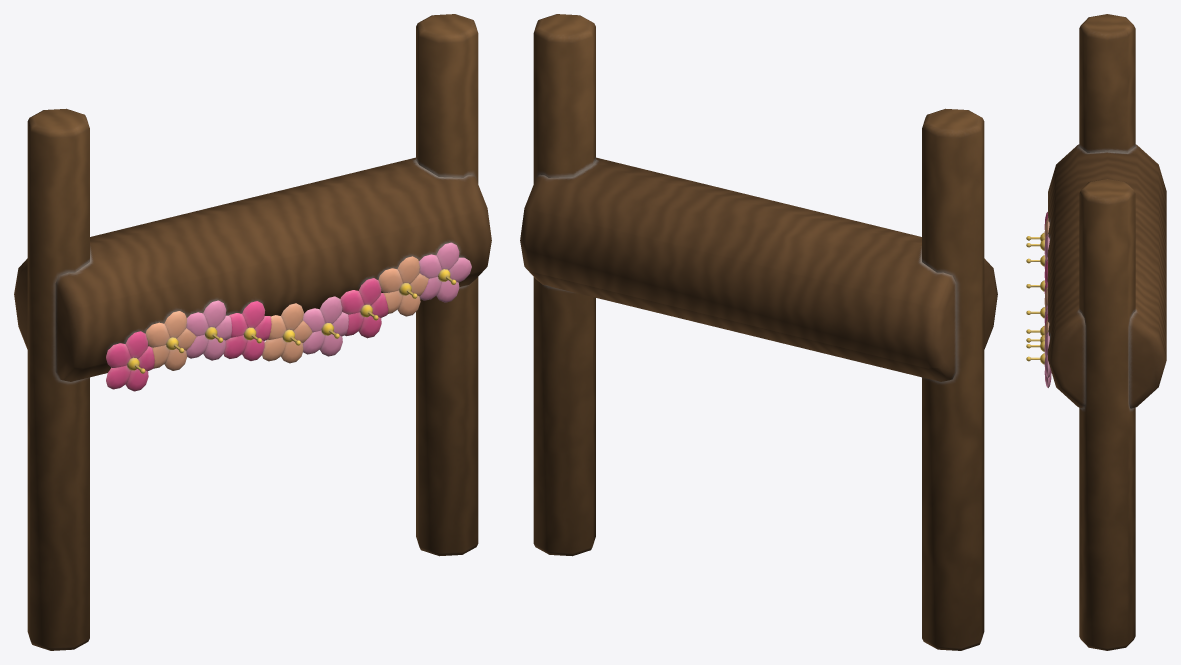
The model's file is tf_obstacle_hanging_garland.glb.
3 views of the same model, side by side, from view 1: azimuth 30°, elevation 25°; view 2: azimuth 150°, elevation 25°; view 3: azimuth 270°, elevation 25° (orthographic). The views are drawn at different scales.
Visible parts, largest first — view 1: tf_obstacle_hanging_garland; view 2: tf_obstacle_hanging_garland; view 3: tf_obstacle_hanging_garland.
Part boxes in pixels (x1,y1,x2,y2): tf_obstacle_hanging_garland: (14, 14, 491, 650); tf_obstacle_hanging_garland: (520, 14, 997, 650); tf_obstacle_hanging_garland: (1026, 14, 1166, 650).
Size of the model in its own units: 2.86 by 3.2 by 0.9.
Materials: 6 (6 with a texture image).
